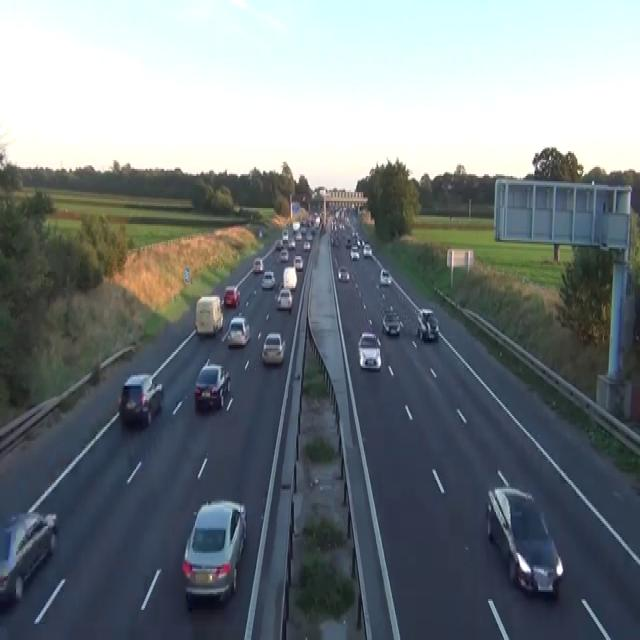Car: (486, 483, 564, 598), (181, 498, 247, 608), (0, 508, 58, 606), (118, 372, 163, 426), (194, 361, 230, 411), (357, 330, 381, 370), (224, 314, 250, 346), (416, 308, 439, 342), (261, 332, 285, 364), (382, 311, 402, 334), (223, 284, 240, 308), (276, 288, 293, 309), (261, 270, 275, 290), (417, 308, 433, 322), (379, 268, 391, 284), (337, 265, 349, 281), (253, 256, 264, 272), (293, 254, 303, 270), (362, 244, 372, 258), (349, 246, 359, 260), (331, 231, 339, 245), (279, 249, 288, 261), (275, 238, 283, 249), (345, 236, 351, 249), (314, 215, 320, 228), (288, 238, 295, 249), (294, 231, 302, 240), (305, 231, 313, 240), (282, 235, 288, 247), (320, 222, 326, 233), (303, 240, 310, 249), (300, 226, 306, 236), (333, 256, 338, 268), (310, 228, 315, 236), (258, 228, 262, 236)
Truck: (195, 295, 223, 336), (282, 266, 297, 290)
